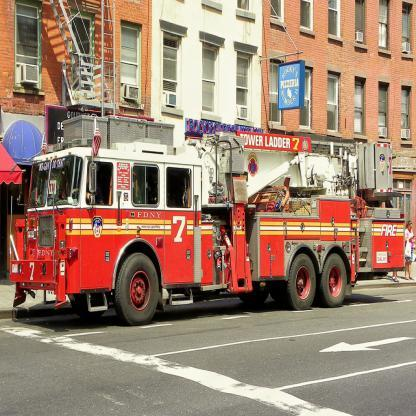fire-truck: (2, 72, 402, 357)
